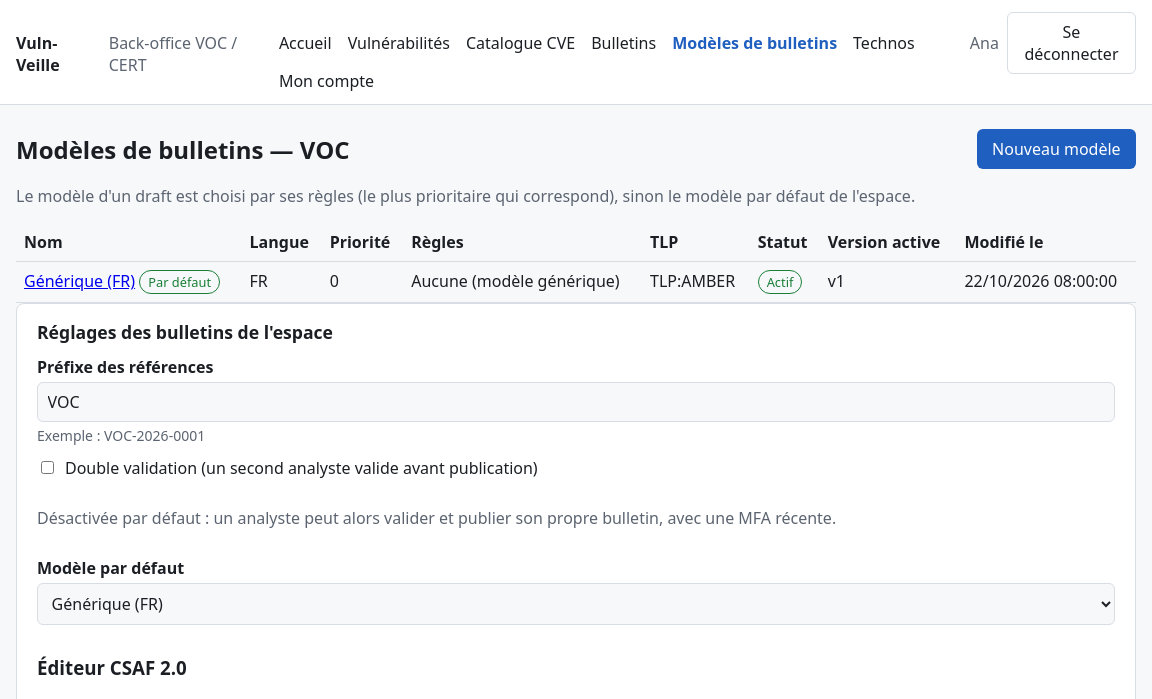
Test: bulletin screens › saves the workspace settings (prefix and double validation)
Click the checkbox labelled "Double validation".
click(48, 468)  # box left=41, top=461, right=54, bottom=474
(page scrolled)
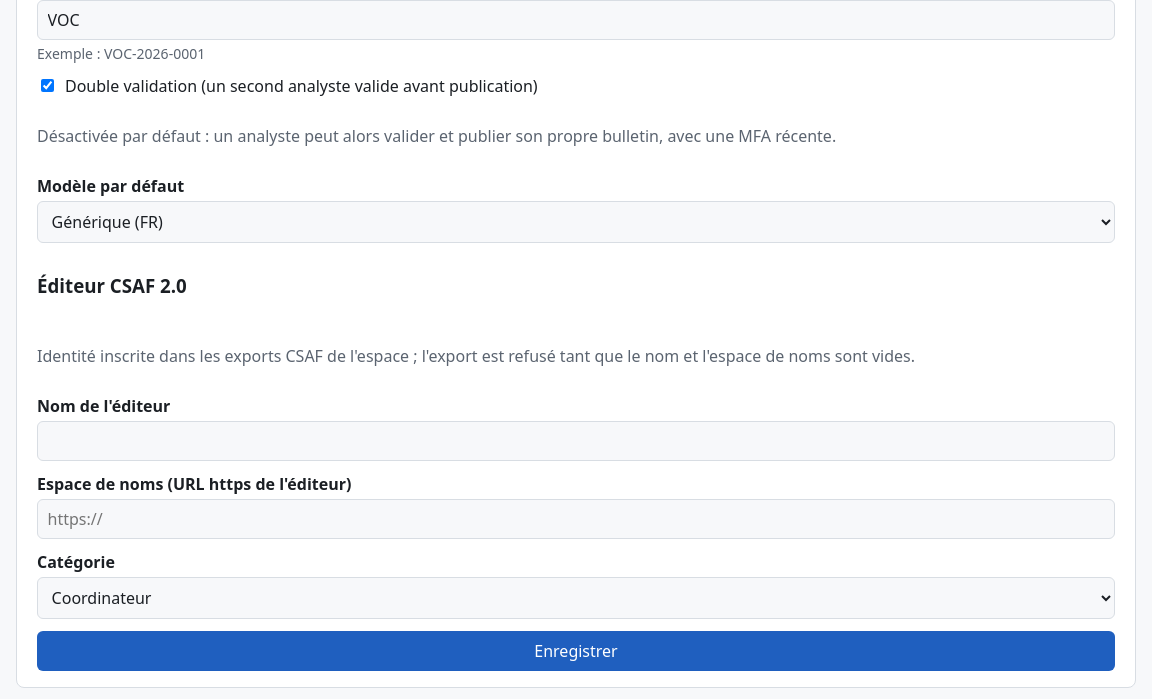
Click the button "Enregistrer".
click(576, 651)  # box left=37, top=631, right=1115, bottom=671
(page scrolled)
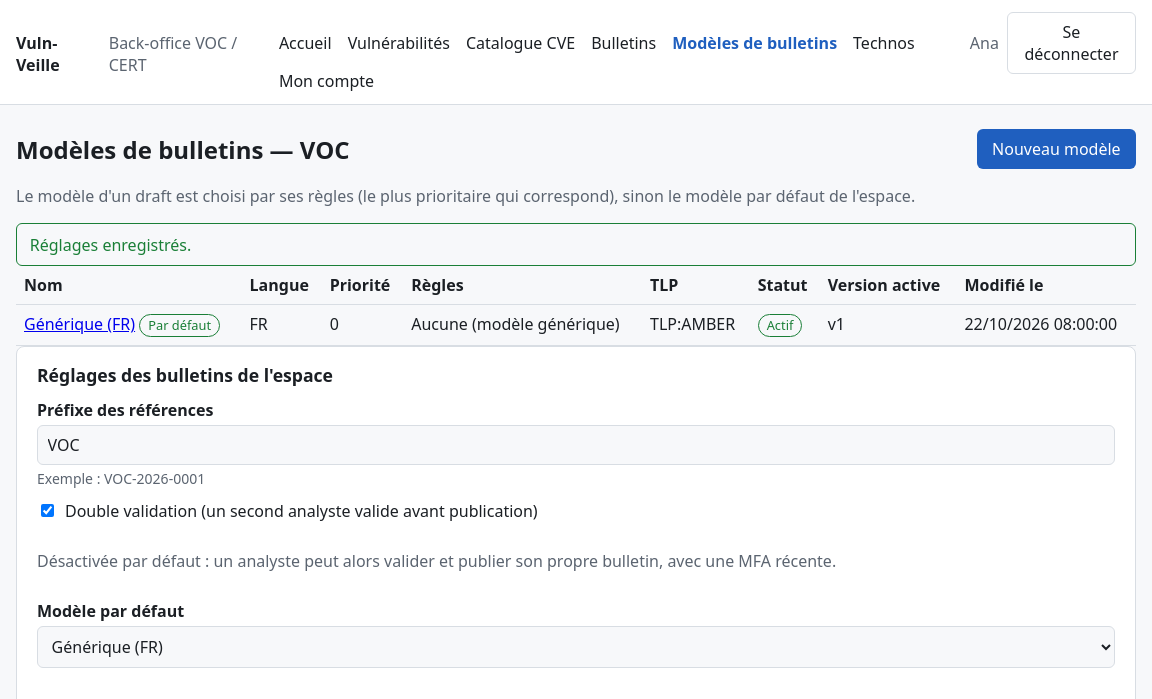
Check: the text "Réglages enregistrés." is shown, box left=16, top=223, right=1136, bottom=266
